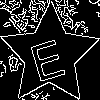E: (25, 30, 68, 83)
